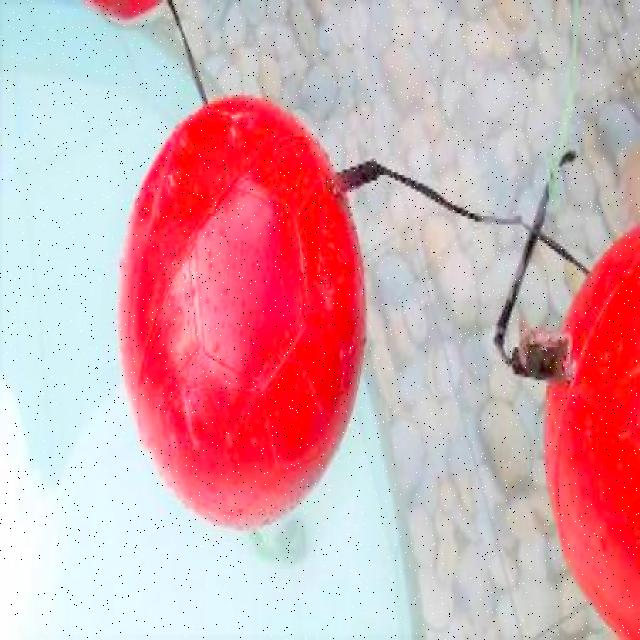buoy: (118, 94, 366, 529), (543, 221, 639, 638)
